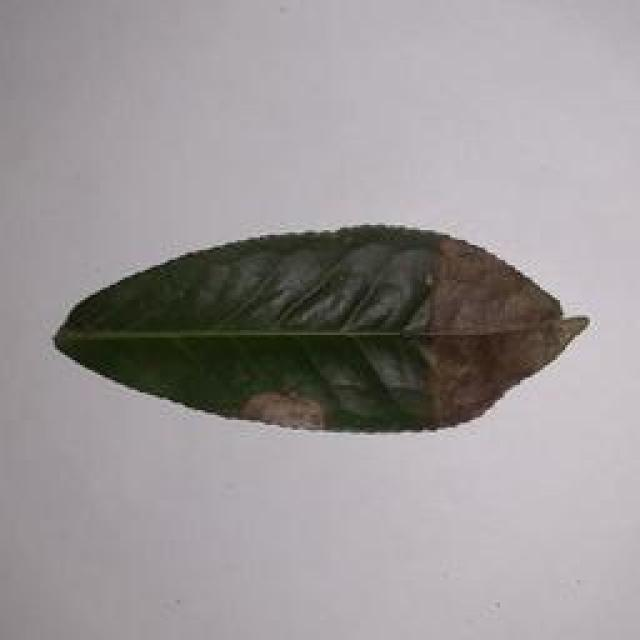Brown Blight: (53, 218, 622, 439)
